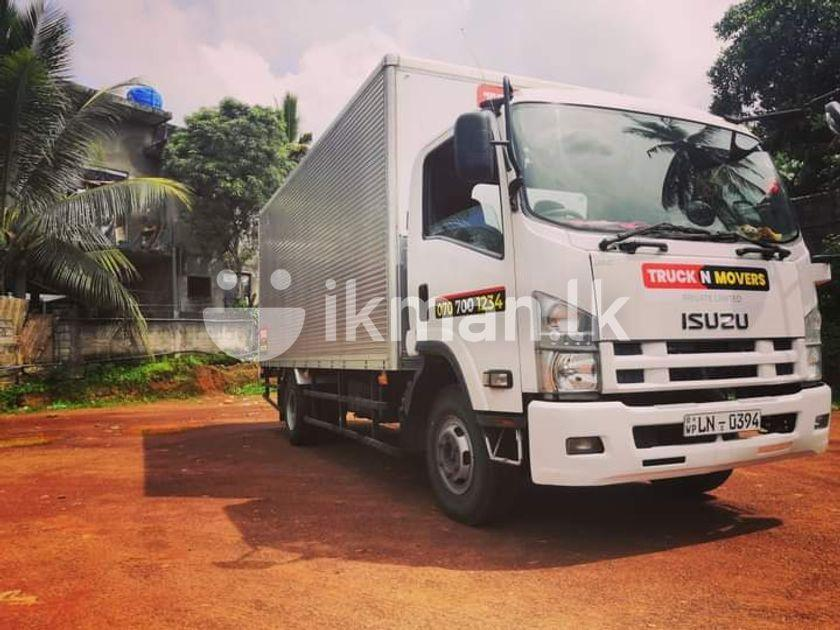truck: (258, 53, 840, 528)
